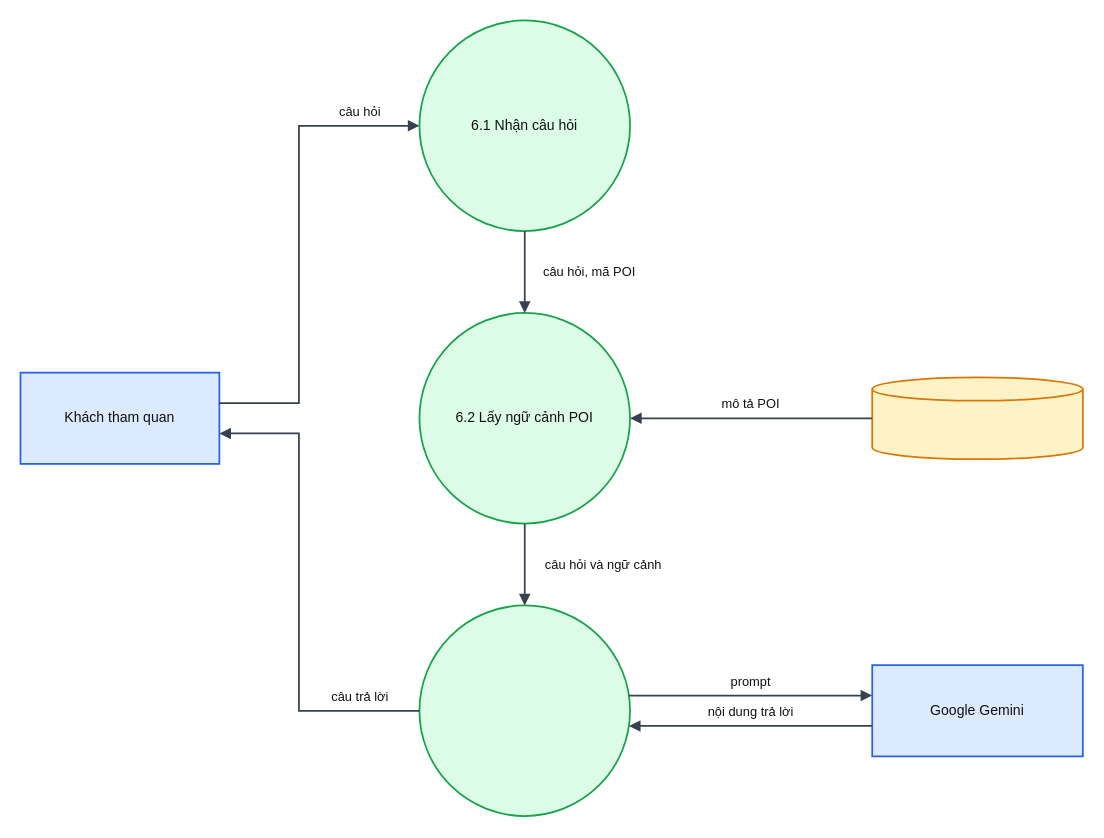
The diagram is 1104 pixels wide and 838 high, and some of its shapes have lost their labels. Each missing label, with the centre of its shape:
"6.3 Sinh câu trả lời" belongs at [524,710].
"D1 POI" belongs at [977,418].
